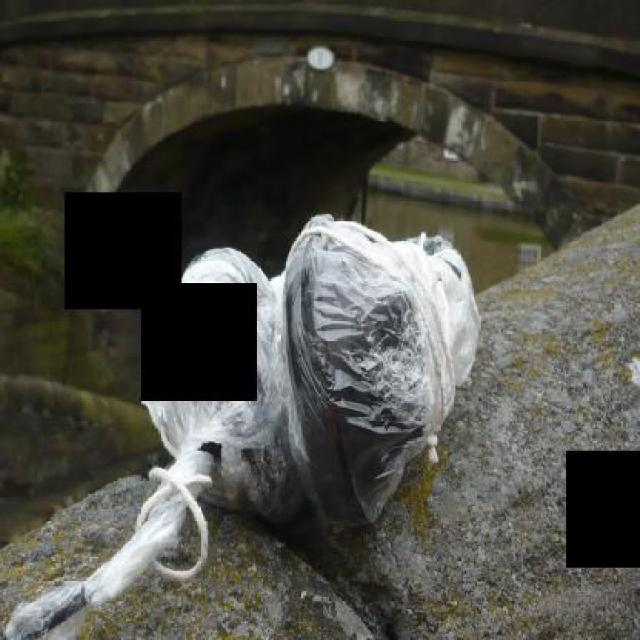plastic bag: (1, 211, 478, 638)
